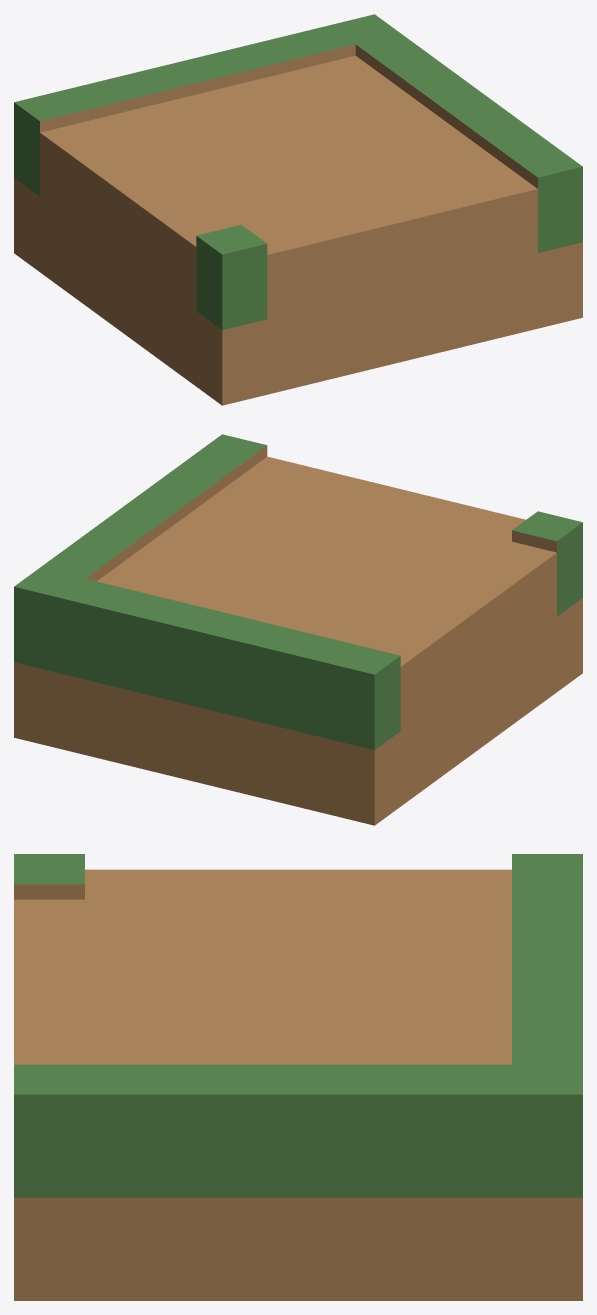
File: tile_091.fbx
3 views of the same model, one above another, from view 1: azimuth 30°, elevation 25°; view 2: azimuth 150°, elevation 25°; view 3: azimuth 270°, elevation 25° (orthographic). The views are drawn at different scales.
Parts seen in each view (by area): view 1: tile_091; view 2: tile_091; view 3: tile_091.
Part boxes in pixels (x1,y1,x2,y2): tile_091: [14, 14, 582, 405]; tile_091: [14, 434, 582, 825]; tile_091: [14, 854, 582, 1300].
Bounding box in the file's own units: 10 × 4 × 10.
